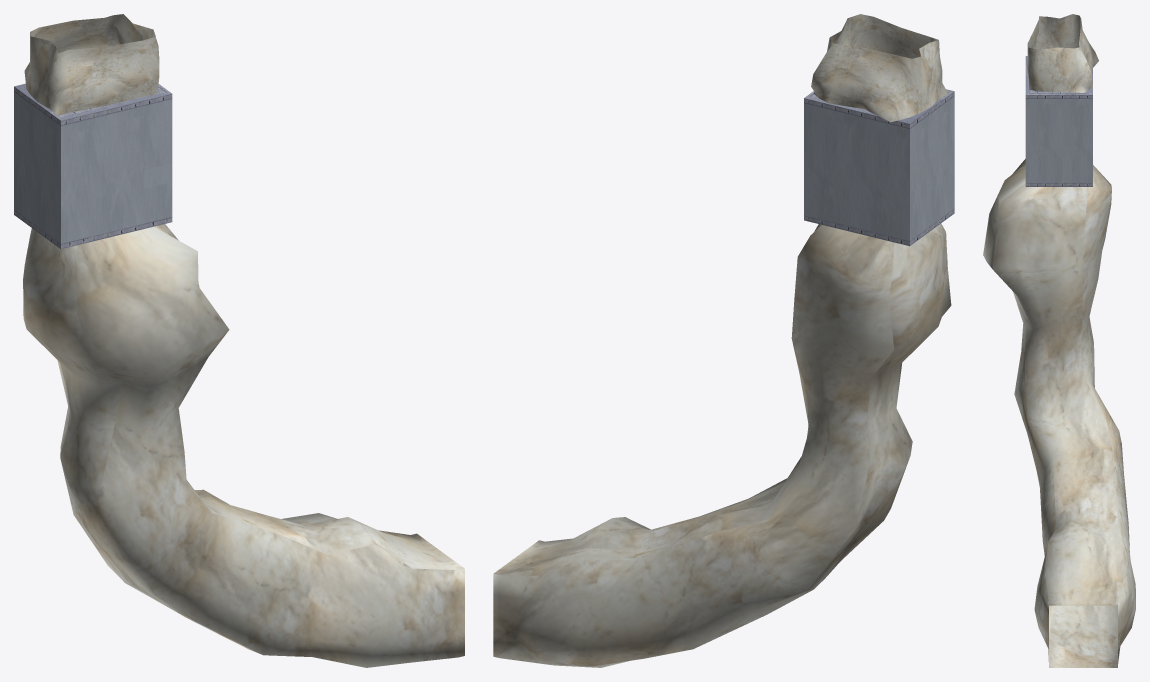
File: entrance.dae
The picture shows the model from 3 angles, left to right: view 1: azimuth 30°, elevation 25°; view 2: azimuth 150°, elevation 25°; view 3: azimuth 270°, elevation 25°; orthographic projection. The views are drawn at different scales.
Visible parts, largest first — view 1: entrance_tunnel, entrance, outside; view 2: entrance_tunnel, entrance, outside; view 3: entrance_tunnel, entrance, outside.
Boxes of the visible parts, left/top/right/bottom form: entrance_tunnel: left=23, top=224, right=464, bottom=667; entrance: left=14, top=83, right=172, bottom=249; outside: left=24, top=14, right=159, bottom=115; entrance_tunnel: left=493, top=223, right=951, bottom=667; entrance: left=804, top=89, right=954, bottom=246; outside: left=811, top=14, right=947, bottom=122; entrance_tunnel: left=983, top=159, right=1135, bottom=667; entrance: left=1025, top=56, right=1092, bottom=186; outside: left=1027, top=14, right=1098, bottom=92.
Size of the model in its own units: 403 by 177 by 657.
4 materials, 3 textured.
